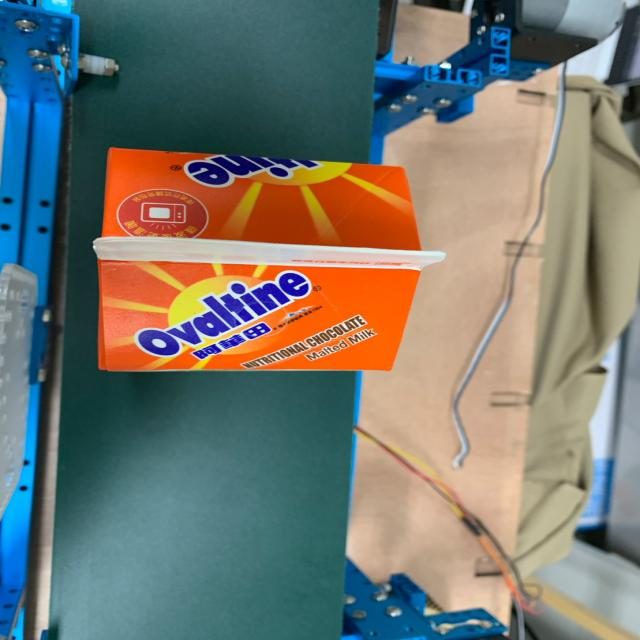non_white_jug: (65, 137, 452, 389)
